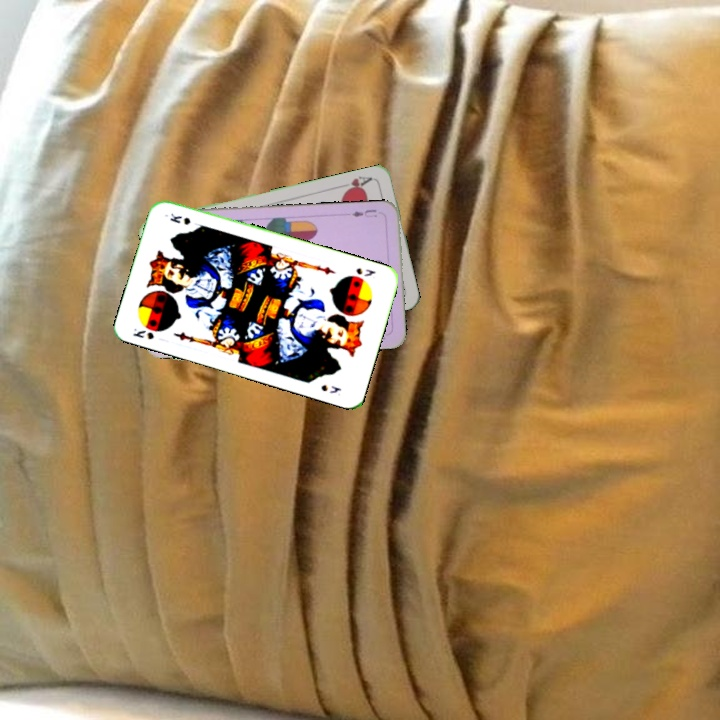EU: (348, 205, 379, 220)
HA: (340, 172, 375, 196)
SK: (129, 324, 156, 342), (352, 264, 378, 279)
